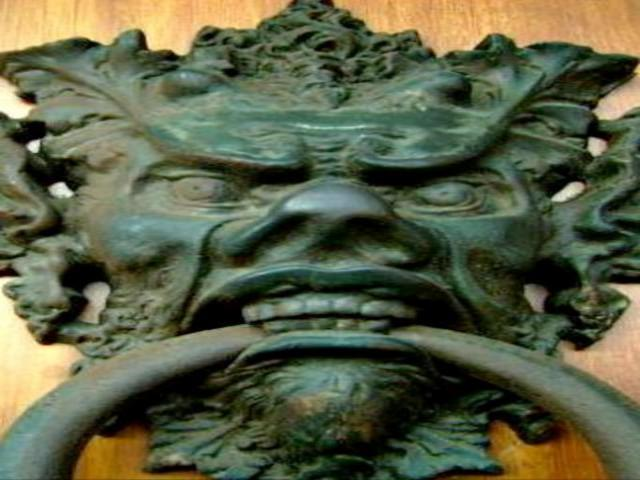Door-handle: (0, 0, 638, 479)
